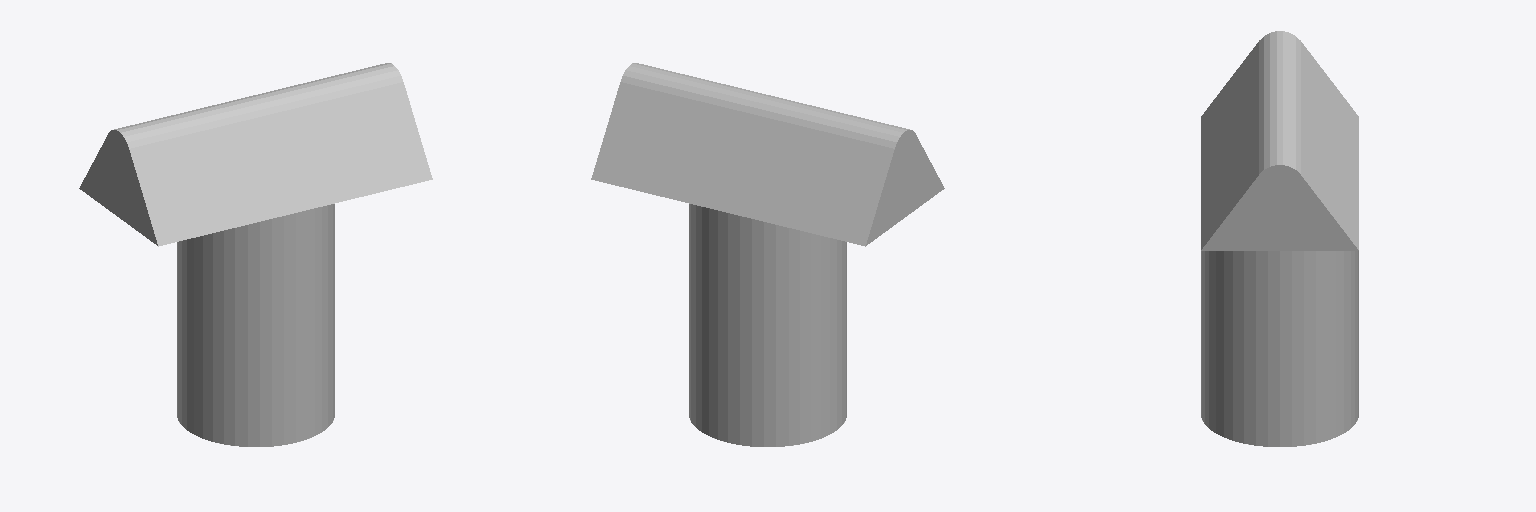
File: rotator_round.obj
3 renders of one model, left to right at view 1: azimuth 30°, elevation 25°; view 2: azimuth 150°, elevation 25°; view 3: azimuth 270°, elevation 25°, orthographic.
Parts seen in each view (by area): view 1: Solid1; view 2: Solid1; view 3: Solid1.
Part boxes in pixels (x1,y1,x2,y2): Solid1: (79, 63, 432, 446); Solid1: (591, 63, 944, 446); Solid1: (1201, 31, 1358, 446).
Bounding box in the file's own units: 0.1 × 0.1099 × 0.05.